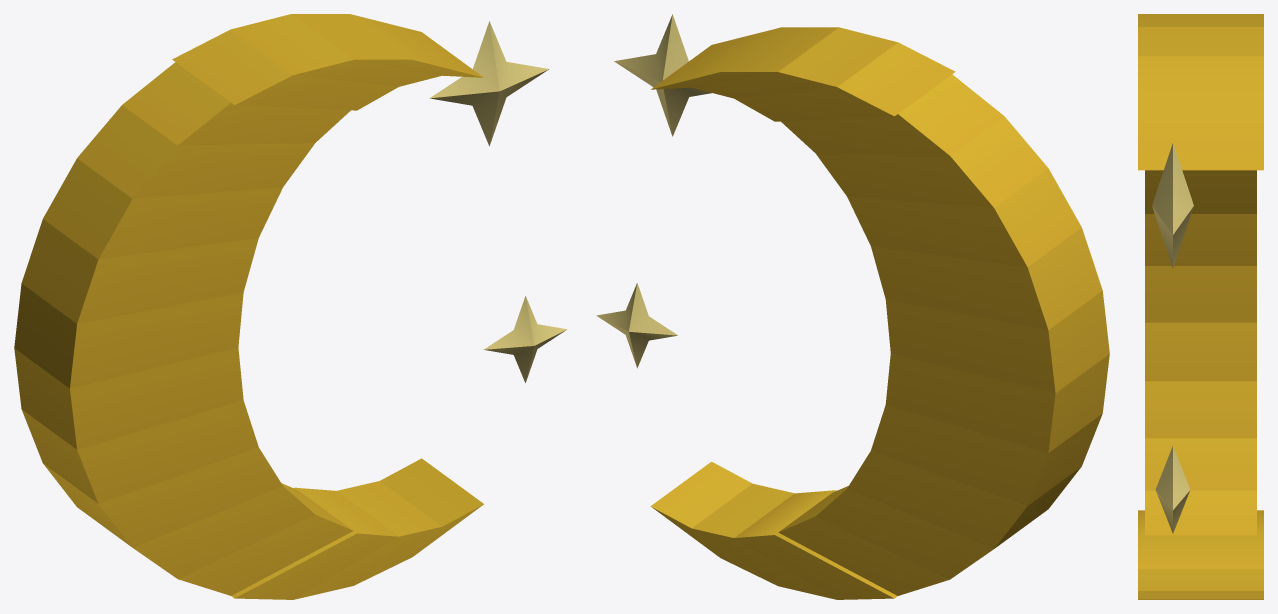
File: ui_moon.glb
3 views of the same model, side by side, from view 1: azimuth 30°, elevation 25°; view 2: azimuth 150°, elevation 25°; view 3: azimuth 270°, elevation 25° (orthographic). The views are drawn at different scales.
Visible parts, largest first — view 1: body; view 2: body; view 3: body.
Part boxes in pixels (bbox=[...]): body: bbox=[14, 14, 566, 599]; body: bbox=[596, 14, 1109, 599]; body: bbox=[1138, 14, 1263, 599].
Bounding box in the file's own units: 0.425 × 0.4175 × 0.09.
